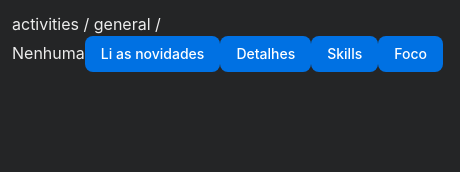
Test: does not overwrite unavailable preferences and still permits using the interface
What coordinates should you click on to do the following:
click the button "Detalhes"
I would click on:
 (266, 54)
Its box is [220,36,311,72].
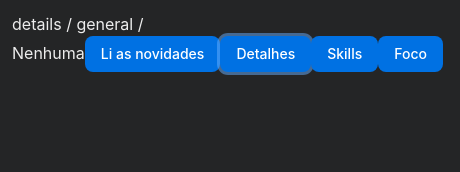
Expected: the text "details / general /" is shown, [12,14,144,34]
